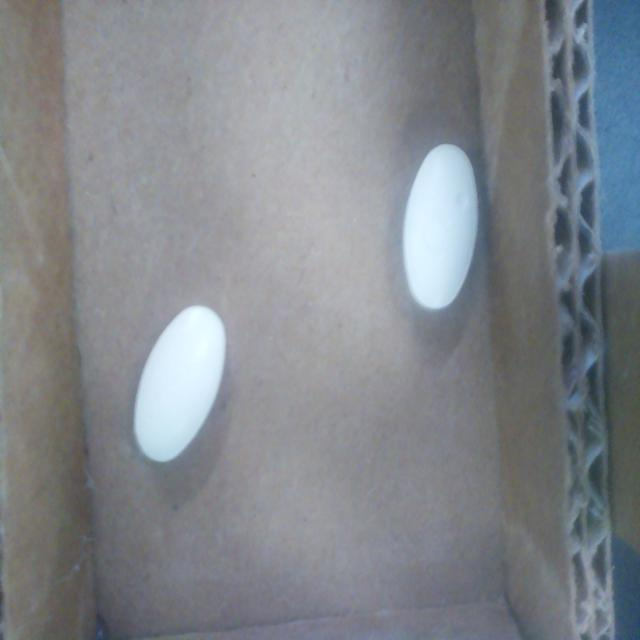pill: (133, 306, 226, 464), (402, 141, 479, 310)
